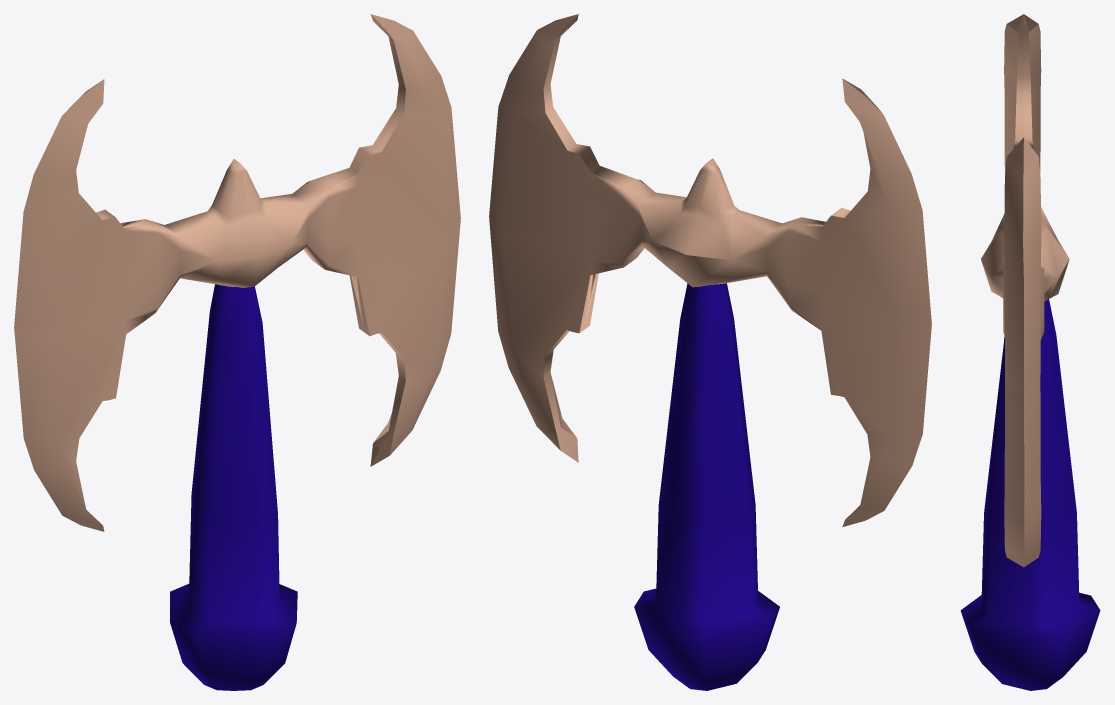
Rendered from DoubleAxe.fbx.
3 renders of one model, left to right at view 1: azimuth 30°, elevation 25°; view 2: azimuth 150°, elevation 25°; view 3: azimuth 270°, elevation 25°, orthographic. The views are drawn at different scales.
Visible parts, largest first — view 1: DoubleAxe; view 2: DoubleAxe; view 3: DoubleAxe.
Part boxes in pixels (x1,y1,x2,y2): DoubleAxe: (14,14,460,690); DoubleAxe: (489,14,931,690); DoubleAxe: (960,14,1100,690).
Size of the model in its own units: 1 by 1.38 by 0.2861.
